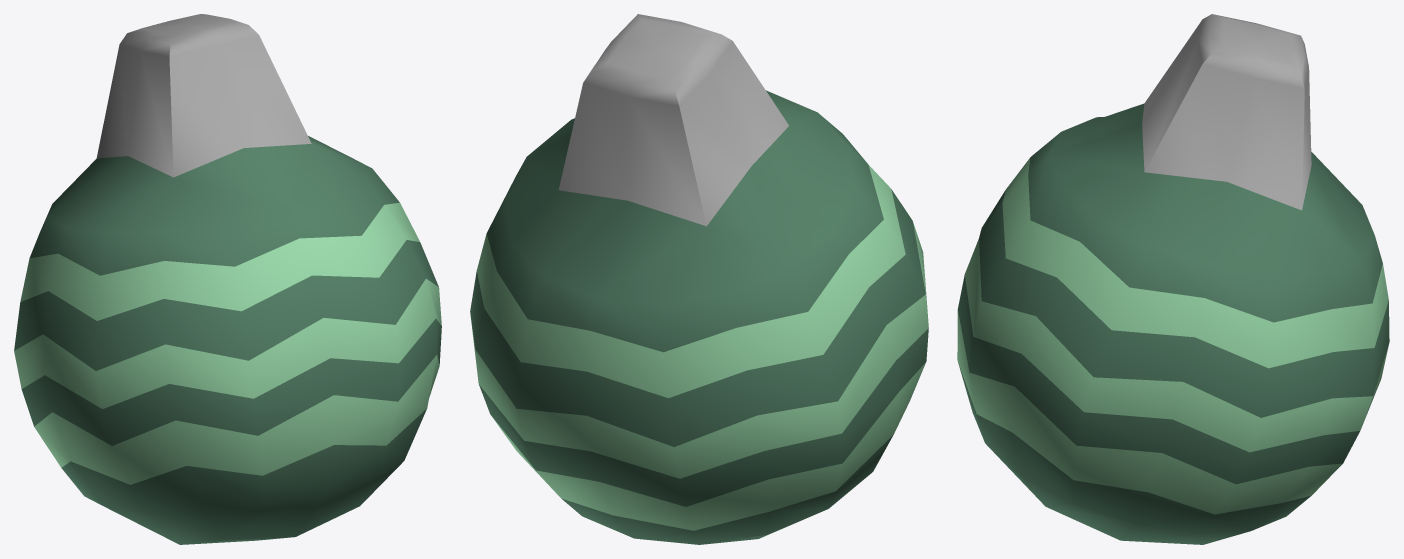
Rendered from Objet1_01.glb.
3 views of the same model, side by side, from view 1: azimuth 30°, elevation 25°; view 2: azimuth 150°, elevation 25°; view 3: azimuth 270°, elevation 25° (orthographic). The views are drawn at different scales.
Visible parts, largest first — view 1: Christmas_ball_5; view 2: Christmas_ball_5; view 3: Christmas_ball_5.
Boxes of the visible parts, left/top/right/bottom form: Christmas_ball_5: left=14, top=14, right=441, bottom=544; Christmas_ball_5: left=470, top=14, right=928, bottom=544; Christmas_ball_5: left=957, top=14, right=1389, bottom=544.
Size of the model in its own units: 237 by 298 by 237.
Materials: 1 (1 with a texture image).
